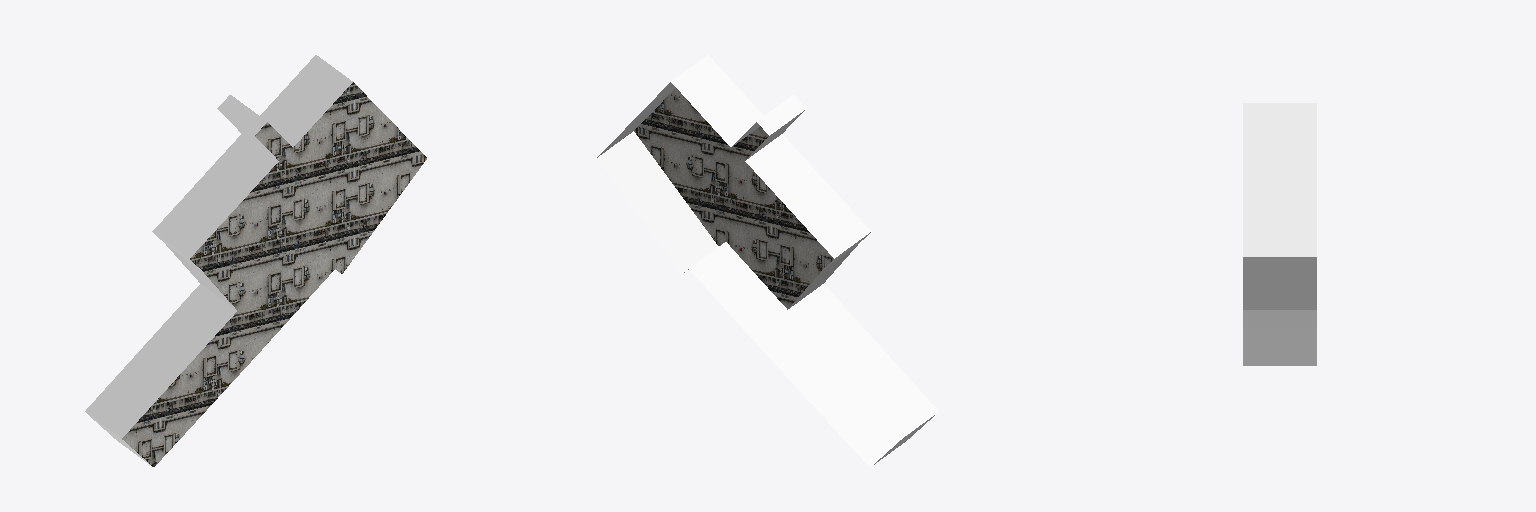
3 views of the same model, side by side, from view 1: azimuth 30°, elevation 25°; view 2: azimuth 150°, elevation 25°; view 3: azimuth 270°, elevation 25° (orthographic).
Visible parts, largest first — view 1: Building; view 2: Building; view 3: Building.
Boxes of the visible parts, x1,y1,x2,y2 form: Building: [85, 55, 426, 466]; Building: [597, 55, 938, 466]; Building: [1243, 103, 1316, 365].
Bounding box in the file's own units: 42.53 × 44.87 × 9.
2 materials, 1 textured.